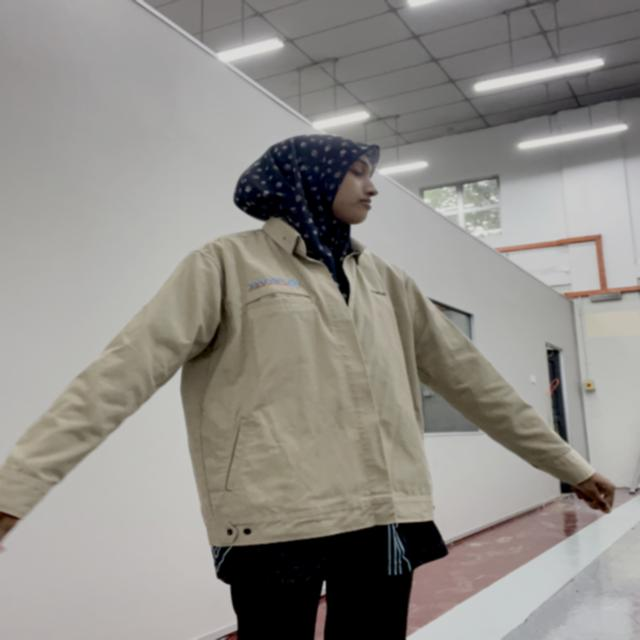person_with_labcoat: (0, 133, 612, 640)
